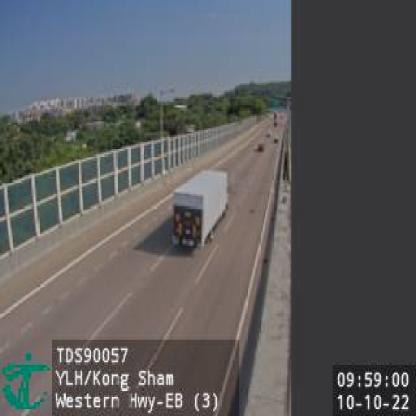Car: (257, 141, 267, 153)
Truck: (171, 163, 232, 250)
